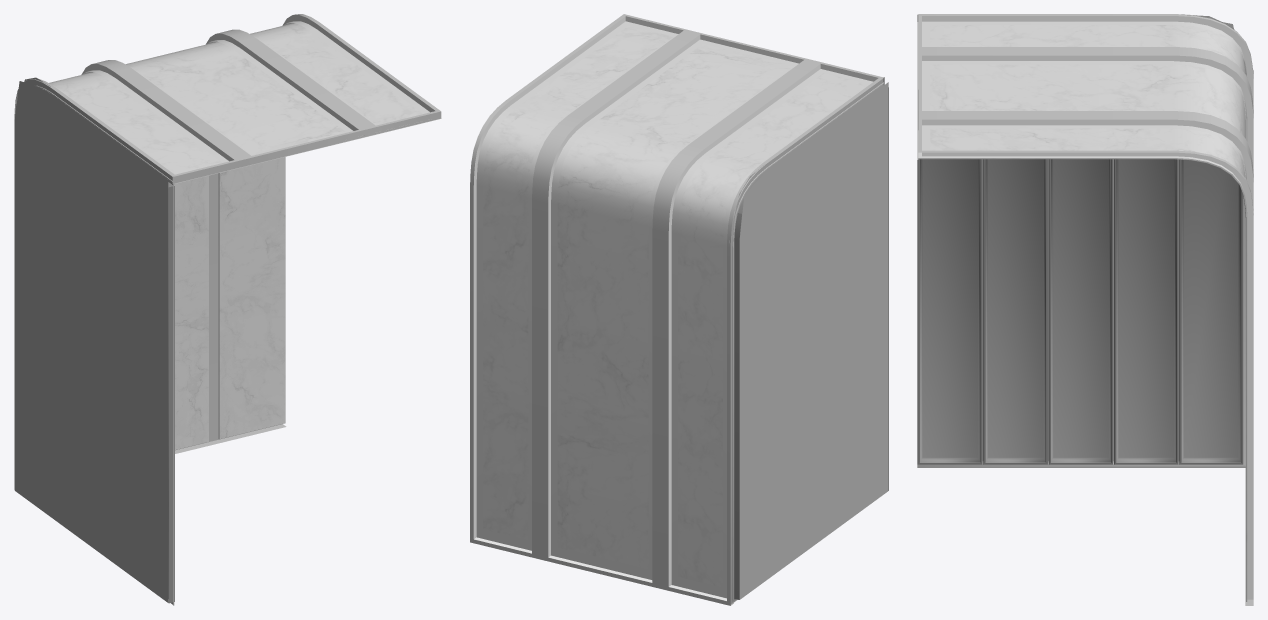
The picture shows the model from 3 angles, left to right: view 1: azimuth 30°, elevation 25°; view 2: azimuth 150°, elevation 25°; view 3: azimuth 270°, elevation 25°; orthographic projection. The views are drawn at different scales.
Visible parts, largest first — view 1: M_W_010_f_8x12; view 2: M_W_010_f_8x12; view 3: M_W_010_f_8x12.
Boxes of the visible parts, box(x1,y1,x2,y2) form: M_W_010_f_8x12: box(14, 14, 441, 605); M_W_010_f_8x12: box(470, 14, 888, 605); M_W_010_f_8x12: box(917, 14, 1253, 605).
Bounding box in the file's own units: 8.13 × 12.2 × 8.2.
